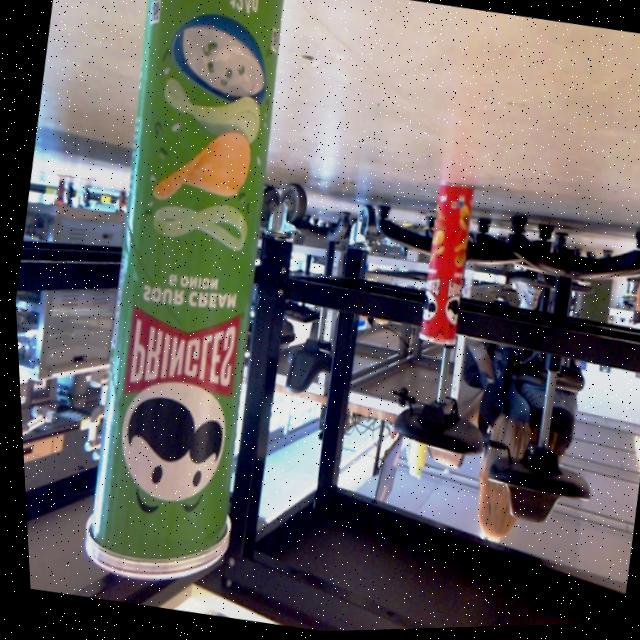greenpringles: (19, 0, 340, 619)
redpringles: (386, 165, 504, 361)
